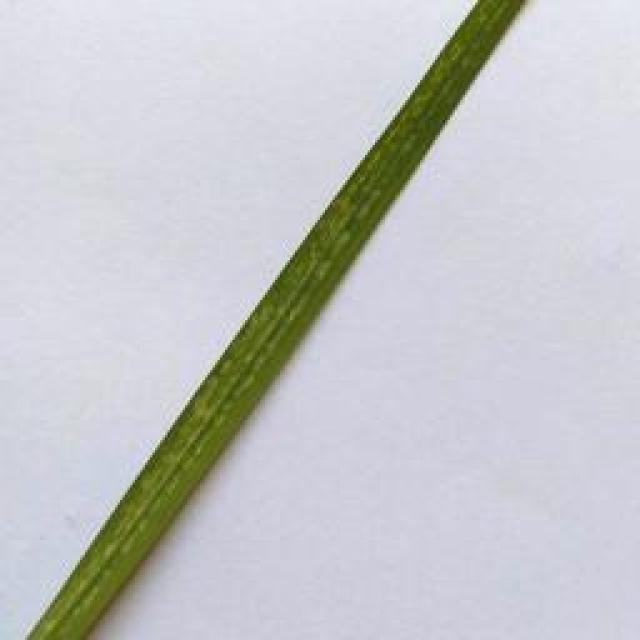Healthy-Plant: (38, 0, 529, 640)
